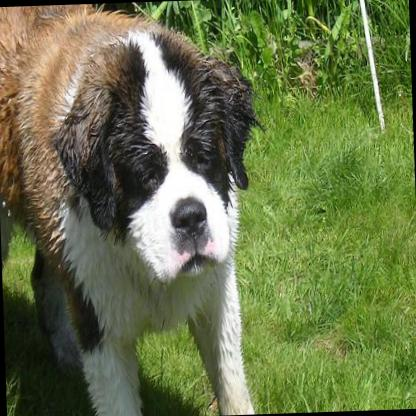Saint_Bernard: (0, 0, 264, 416)
